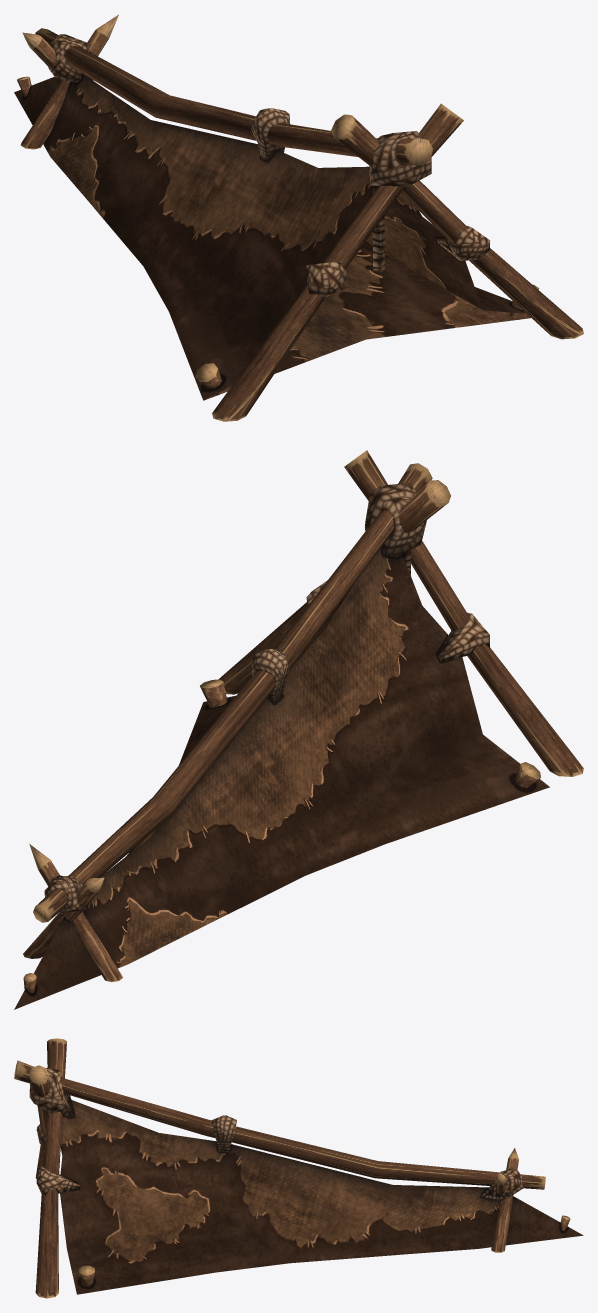
File: Tent.fbx
3 views of the same model, one above another, from view 1: azimuth 30°, elevation 25°; view 2: azimuth 150°, elevation 25°; view 3: azimuth 270°, elevation 25° (orthographic). The views are drawn at different scales.
Visible parts, largest first — view 1: Tent; view 2: Tent; view 3: Tent.
Boxes of the visible parts, box(x1,y1,x2,y2) form: Tent: box(14, 14, 583, 421); Tent: box(14, 450, 583, 1009); Tent: box(14, 1038, 583, 1298).
Size of the model in its own units: 191 by 130 by 366.
